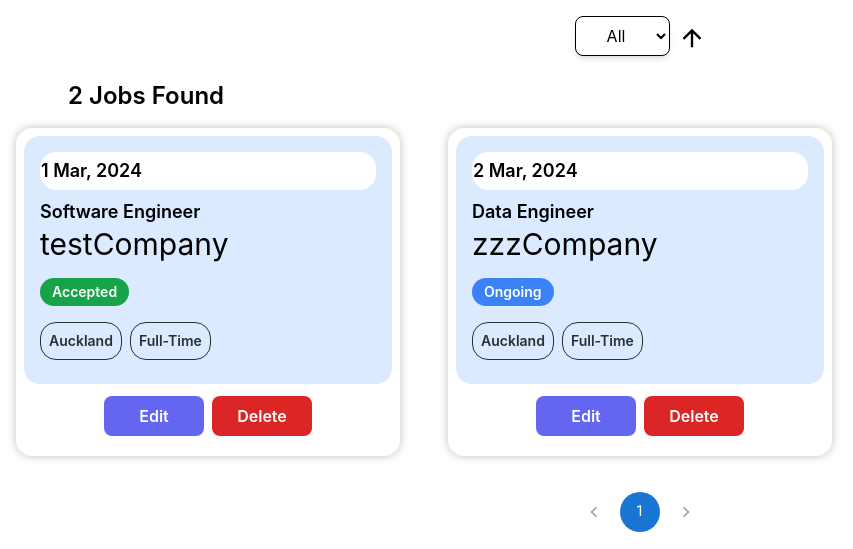
Test: ApplicationList Component › Toggles sorting arrow
# Click to toggle sorting
Click the icon with test id "ArrowUpwardIcon".
click(692, 38)  # box [678,24,706,52]
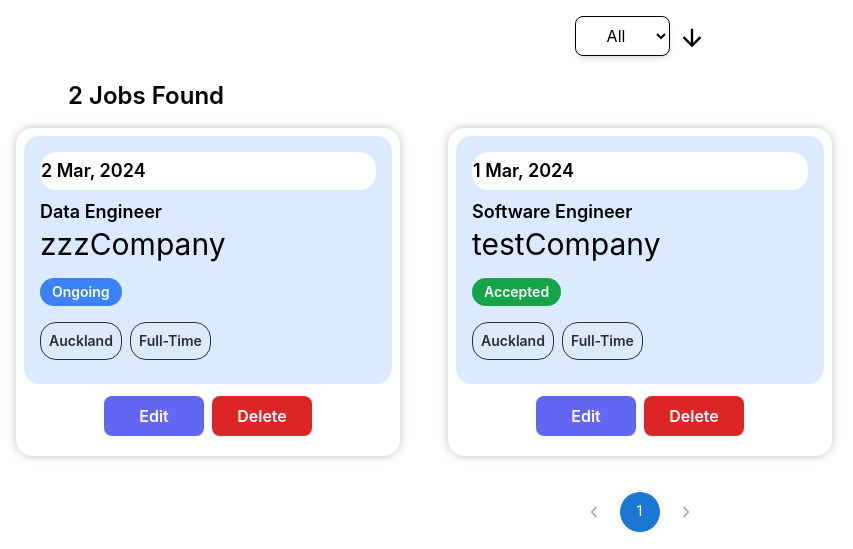
Now the icon with test id "ArrowDownwardIcon" is shown, box [678,24,706,52]
